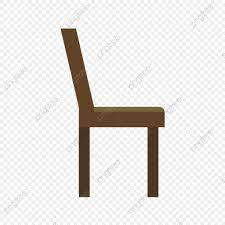chair: (42, 21, 179, 212)
